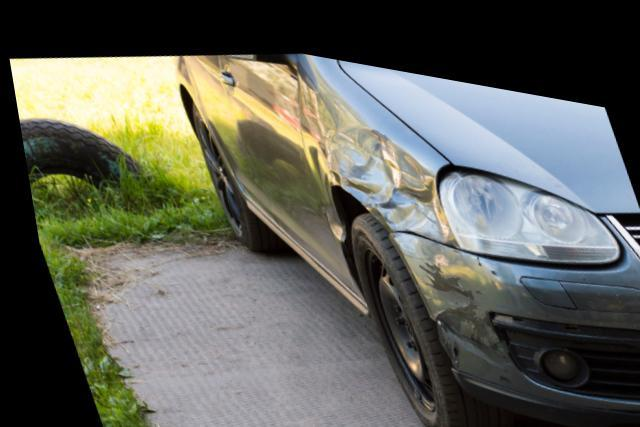dent: (322, 112, 445, 223)
scratch: (411, 244, 504, 366)
